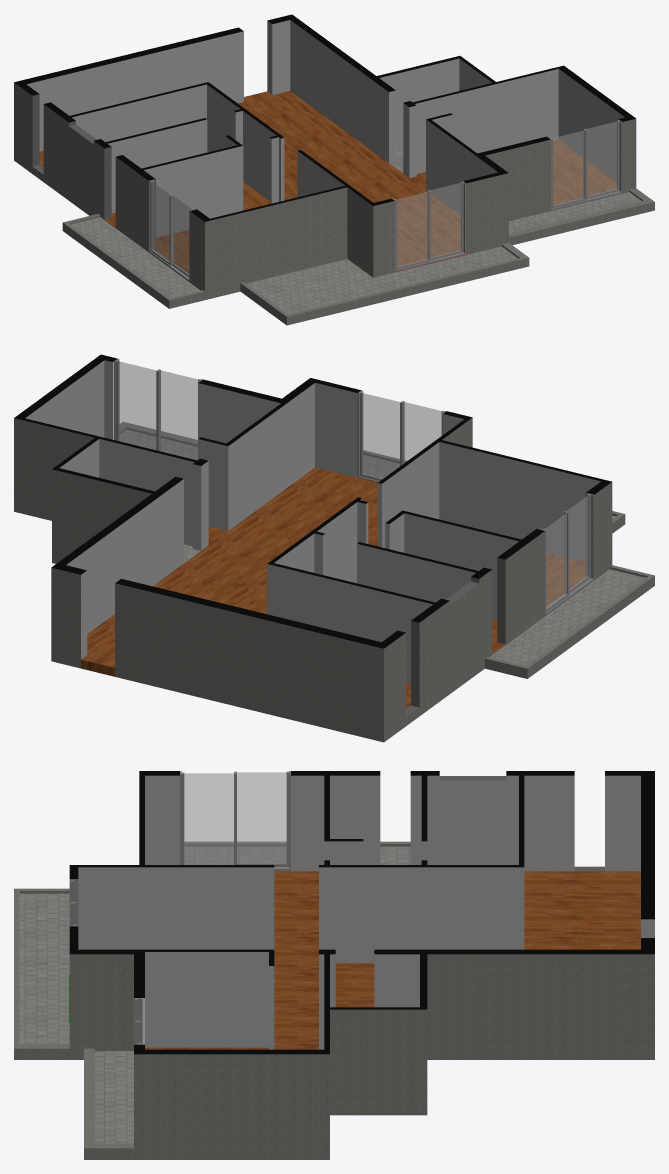
The model's file is modelo1.glb.
3 renders of one model, top to bottom at view 1: azimuth 30°, elevation 25°; view 2: azimuth 150°, elevation 25°; view 3: azimuth 270°, elevation 25°, orthographic. The views are drawn at different scales.
Parts seen in each view (by area): view 1: 29148, 29739, 31489 (×3), 31488 (×3), 31487 (×3); view 2: 29148, 29739, 31488 (×3), 31489 (×3), 31487; view 3: 29148, 29739, 31488, 31489.
Part boxes in pixels (box(x1,y1,x2,y2)): 29148: box(14, 14, 654, 325); 29739: box(39, 91, 616, 273); 31489 (×3): box(150, 129, 586, 269); 31488 (×3): box(172, 120, 619, 277); 31487 (×3): box(148, 120, 622, 281); 29148: box(14, 354, 654, 742); 29739: box(81, 467, 585, 708); 31488 (×3): box(116, 360, 590, 594); 31489 (×3): box(158, 369, 569, 612); 31487: box(539, 493, 594, 614); 29148: box(14, 771, 654, 1159); 29739: box(145, 871, 640, 1049); 31488: box(181, 772, 236, 864); 31489: box(234, 771, 289, 866).
Size of the model in its own units: 1.31 by 0.21 by 1.15.
372 materials, 219 textured.
